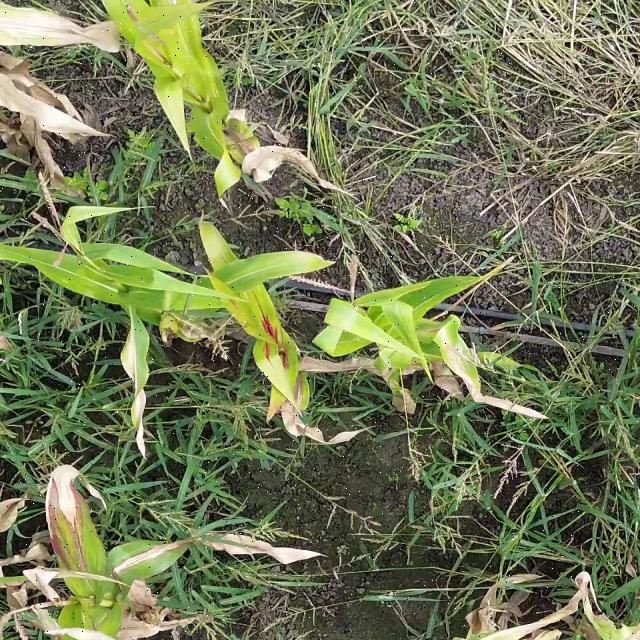northern-leaf-blight: (207, 254, 321, 398), (42, 483, 132, 591), (430, 322, 512, 410)
